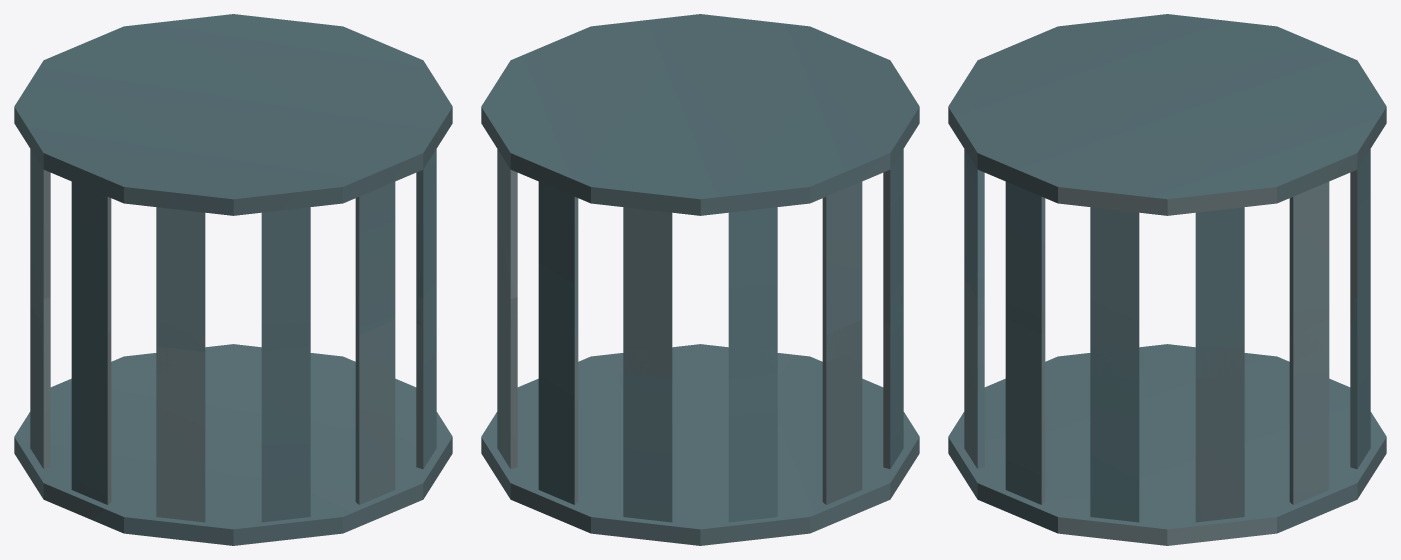
Rendered from T2tinycage.fbx.
3 renders of one model, left to right at view 1: azimuth 30°, elevation 25°; view 2: azimuth 150°, elevation 25°; view 3: azimuth 270°, elevation 25°, orthographic.
Visible parts, largest first — view 1: joined cage; view 2: joined cage; view 3: joined cage.
Boxes of the visible parts, <box> form: joined cage: <box>14,14,452,545</box>; joined cage: <box>481,14,919,545</box>; joined cage: <box>948,14,1386,545</box>.
Bounding box in the file's own units: 600 × 523 × 600.
